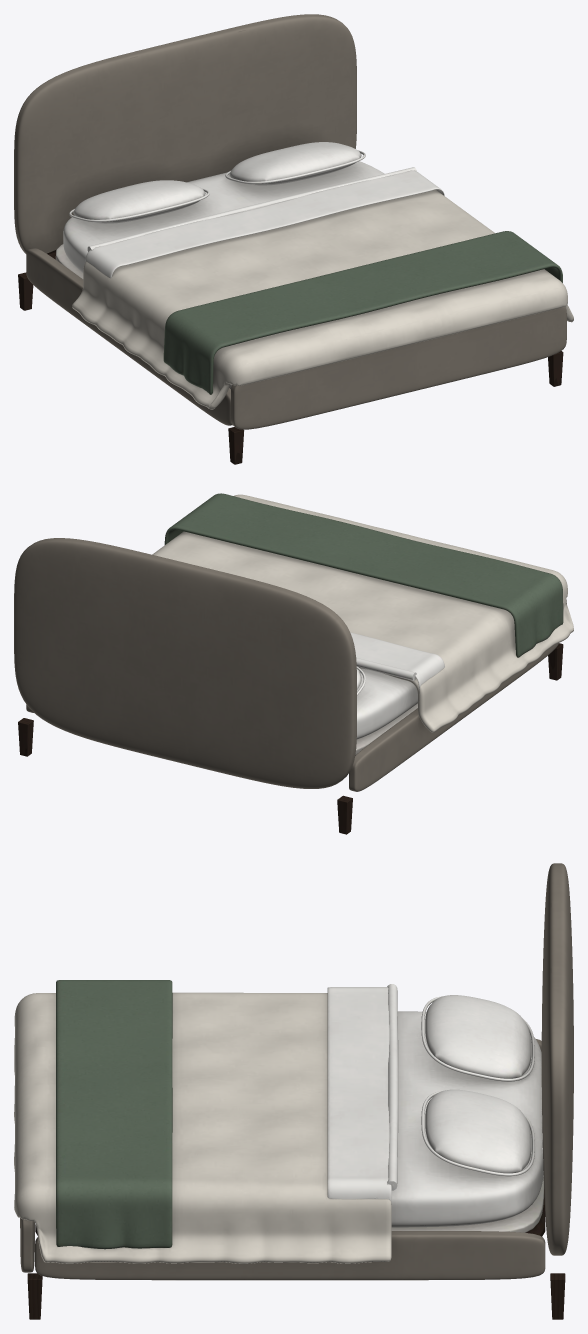
Rendered from upholstered-king.glb.
The picture shows the model from 3 angles, top to bottom: view 1: azimuth 30°, elevation 25°; view 2: azimuth 150°, elevation 25°; view 3: azimuth 270°, elevation 25°; orthographic projection. The views are drawn at different scales.
Parts seen in each view (by area): view 1: fabric_primary, fabric_secondary_duvet, throw_knit, sheet_cotton, pillow_fabric, wood_v; view 2: fabric_primary, fabric_secondary_duvet, throw_knit, sheet_cotton, wood_v, mattress_ticking; view 3: fabric_secondary_duvet, throw_knit, sheet_cotton, fabric_primary, pillow_fabric, mattress_ticking, wood_v.
Part boxes in pixels (x1,y1,x2,y2): fabric_primary: (14,14,566,429); fabric_secondary_duvet: (72,189,573,409); throw_knit: (163,231,562,394); sheet_cotton: (63,161,444,278); pillow_fabric: (69,142,365,223); wood_v: (18,272,563,464); fabric_primary: (14,538,566,791); fabric_secondary_duvet: (152,494,573,732); throw_knit: (164,493,563,657); sheet_cotton: (350,632,444,739); wood_v: (18,643,563,834); mattress_ticking: (355,703,417,755); fabric_secondary_duvet: (14,992,391,1263); throw_knit: (56,980,172,1249); sheet_cotton: (327,984,543,1227); fabric_primary: (20,863,573,1280); pillow_fabric: (421,995,534,1176); mattress_ticking: (391,1175,543,1232); wood_v: (27,1273,565,1319).
Bounding box in the file's own units: 2.13 × 1.26 × 2.25.
8 materials, 8 textured.
